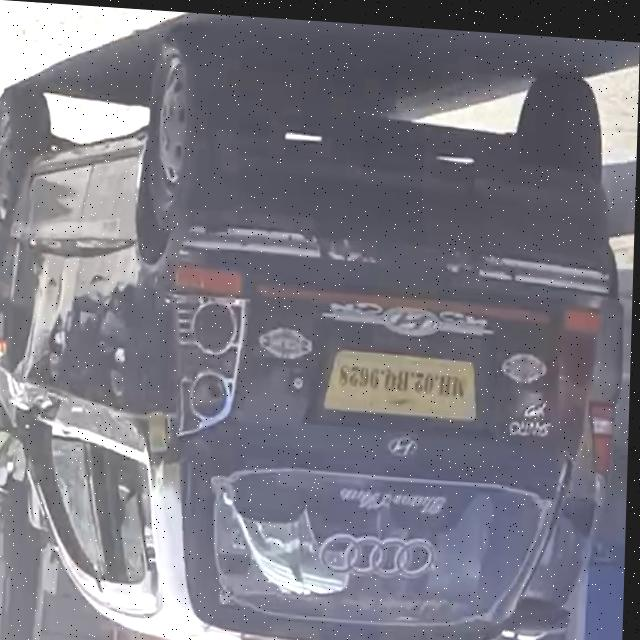plate: (326, 335, 485, 424)
